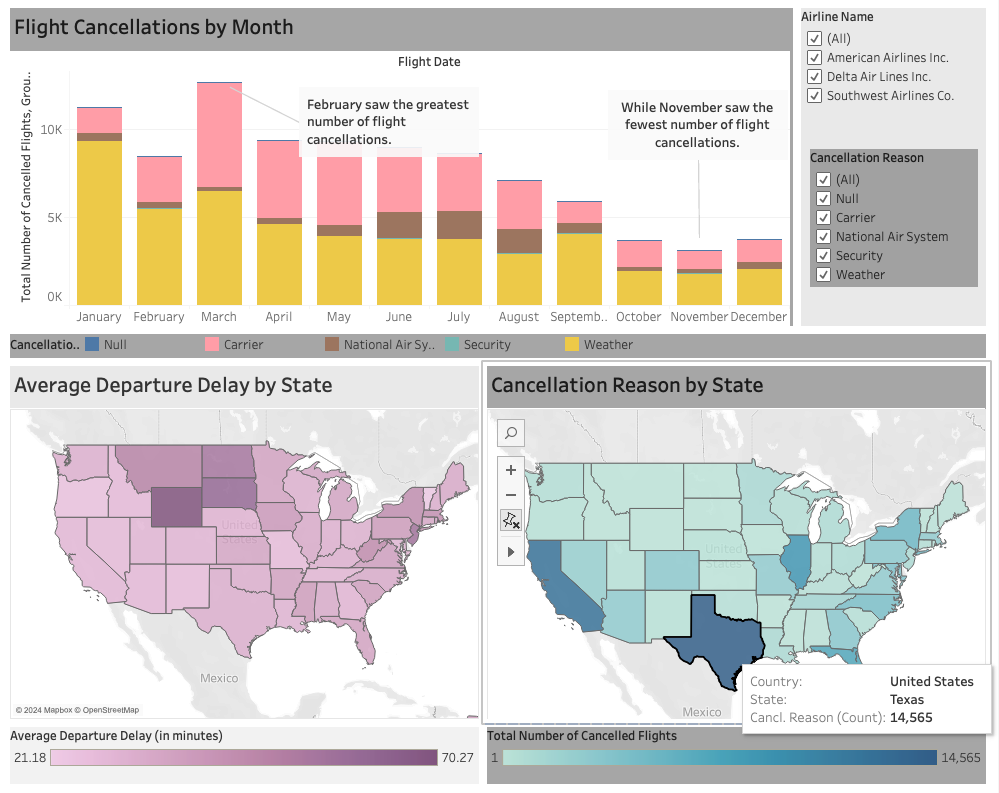

This screenshot's page, from the dashboard's own definition file:
{"tool":"tableau","page":{"name":"Dashboard","canvas":[1000,800],"ordinal":0},"visuals":[{"type":"worksheet","title":"2.4s","mark":"Bar","rows":["Cancelled"],"cols":["FlightDate"],"box":[8,8,791,326]},{"type":"filter","title":"2.3s","param":"[federated.19yw0bz136kdj1180rg3i1apgzjw].[none:AirlineName:nk]","box":[799,8,193,326]},{"type":"filter","title":"Bonus Sheet","param":"[federated.19yw0bz136kdj1180rg3i1apgzjw].[none:CancellationReason:nk]","box":[812,153,168,138]},{"type":"legend","title":"2.4s","param":"[federated.19yw0bz136kdj1180rg3i1apgzjw].[none:CancellationReason:nk]","box":[8,334,984,32]},{"type":"worksheet","title":"2.3s","mark":"Automatic","box":[8,366,477,361]},{"type":"worksheet","title":"Bonus Sheet","mark":"Automatic","box":[485,366,507,361]},{"type":"legend","title":"2.3s","param":"[federated.19yw0bz136kdj1180rg3i1apgzjw].[avg:DepDelay:qk]","box":[8,727,477,65]},{"type":"legend","title":"Bonus Sheet","param":"[federated.19yw0bz136kdj1180rg3i1apgzjw].[usr:Calculation_1400056560142434321:qk","box":[485,727,507,65]}]}

Visuals, with their boxes in screenshot pixels (x1, y1, x2, y2), scaled from the page's 1000x800 canvas onto the 999x793 screenshot:
"2.4s" worksheet (Bar marks): Rect(8, 8, 798, 331)
"2.3s" filter: Rect(798, 8, 991, 331)
"Bonus Sheet" filter: Rect(811, 152, 979, 288)
"2.4s" legend: Rect(8, 331, 991, 363)
"2.3s" worksheet: Rect(8, 363, 485, 721)
"Bonus Sheet" worksheet: Rect(485, 363, 991, 721)
"2.3s" legend: Rect(8, 721, 485, 785)
"Bonus Sheet" legend: Rect(485, 721, 991, 785)
